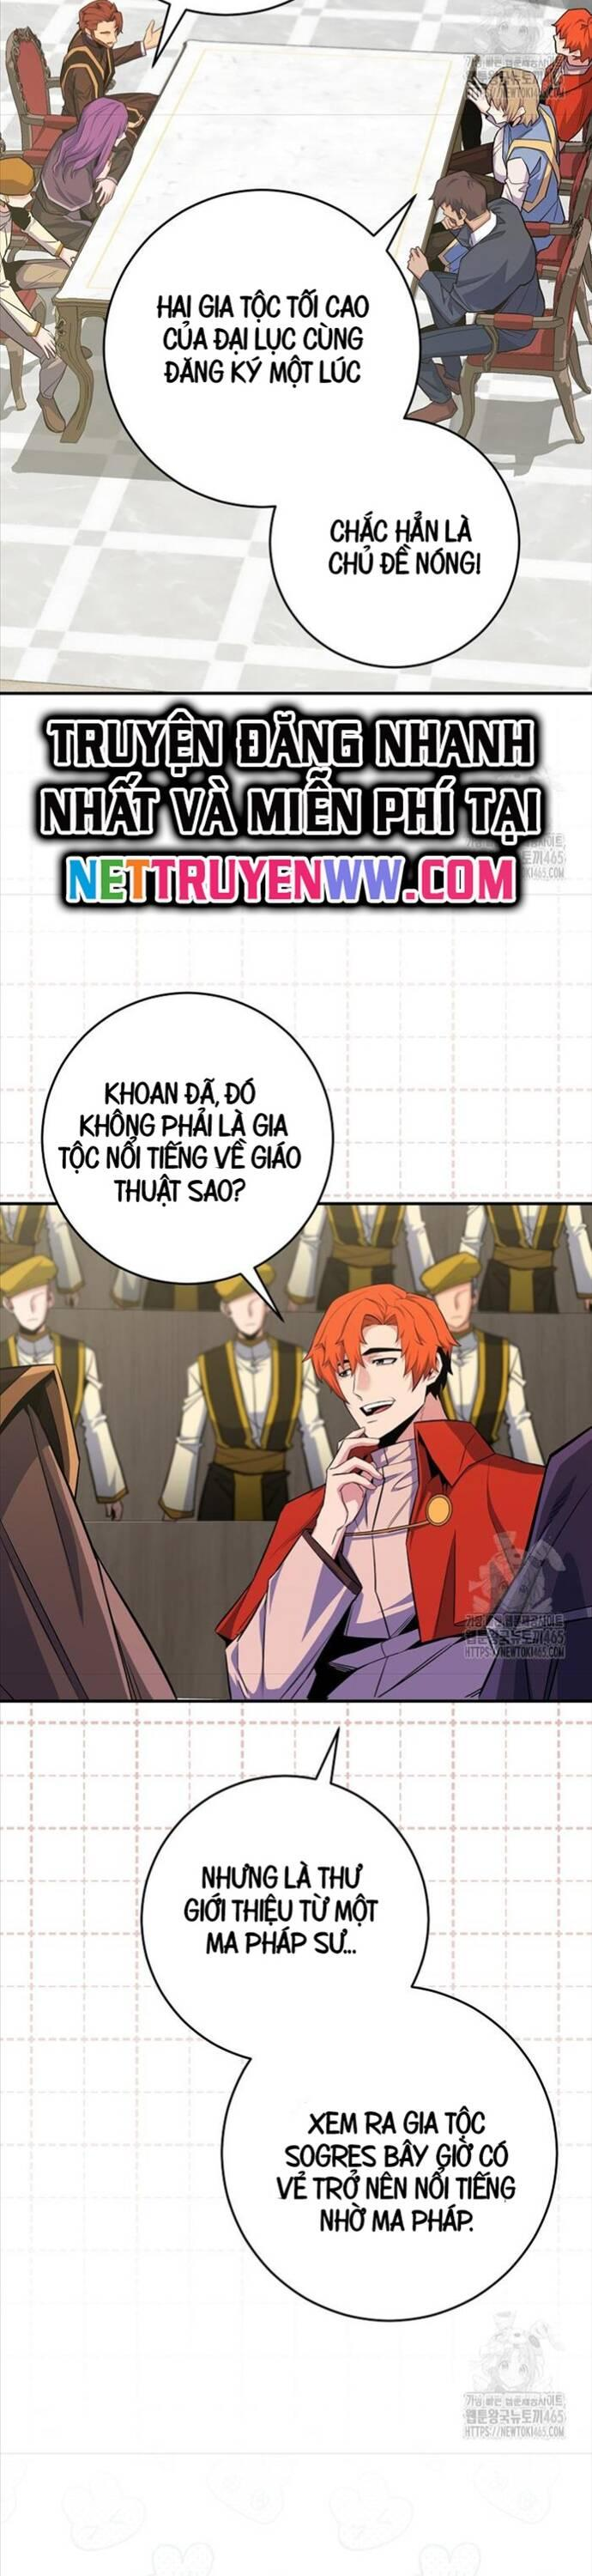quangcao: (34, 695, 558, 931)
